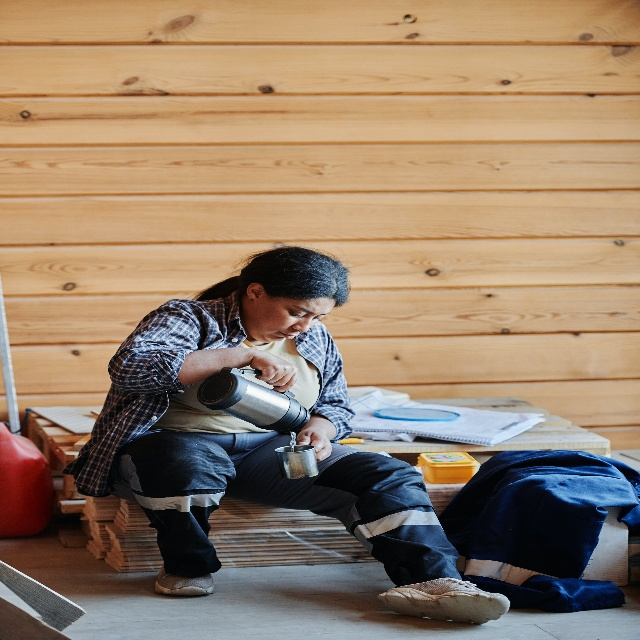Sin_guantes: (249, 348, 298, 392), (297, 428, 332, 463)
